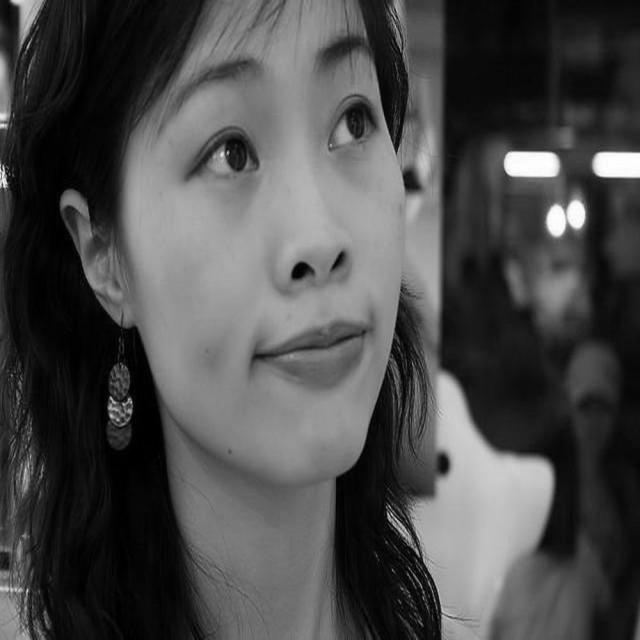real: (125, 46, 407, 474), (178, 86, 384, 191)
